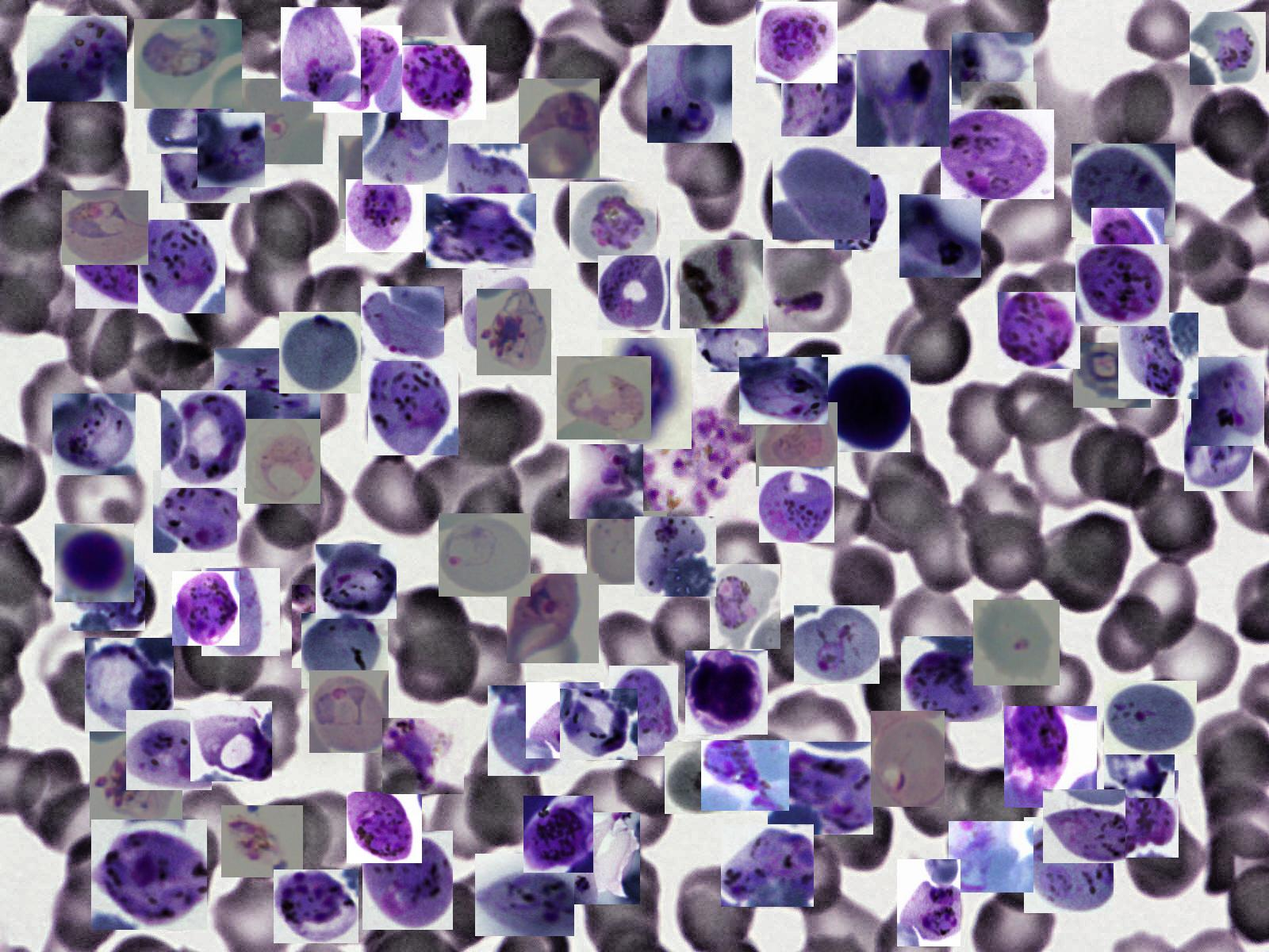Infected: (623, 406, 760, 517), (91, 820, 207, 930), (941, 110, 1054, 200), (773, 136, 870, 240), (603, 338, 692, 449), (768, 742, 873, 835), (134, 19, 242, 109), (1072, 144, 1175, 237), (1004, 706, 1097, 808), (362, 831, 453, 930), (857, 50, 949, 147), (90, 731, 182, 827), (781, 54, 870, 152), (901, 637, 1002, 723), (1024, 817, 1114, 913), (822, 355, 911, 452), (27, 16, 127, 102), (85, 639, 174, 735), (368, 361, 458, 455), (161, 390, 246, 488), (647, 45, 732, 143), (362, 89, 448, 185), (507, 574, 599, 663), (426, 194, 536, 268), (475, 854, 574, 936), (138, 220, 225, 313), (519, 79, 600, 178), (554, 812, 640, 904), (557, 356, 651, 440), (313, 25, 402, 113), (488, 685, 574, 776), (759, 248, 852, 332), (161, 116, 250, 203), (439, 513, 531, 597), (721, 824, 814, 907), (1075, 244, 1169, 326), (446, 144, 528, 237), (281, 7, 361, 102), (234, 79, 323, 164), (214, 348, 320, 419), (973, 600, 1060, 685), (680, 240, 763, 328), (292, 585, 377, 669), (1098, 770, 1179, 858), (569, 182, 657, 263), (871, 711, 945, 807), (153, 470, 237, 553), (685, 651, 768, 735), (1184, 390, 1253, 491), (201, 568, 280, 656), (52, 393, 136, 475), (756, 402, 838, 486), (899, 194, 981, 278), (1118, 313, 1198, 399), (127, 711, 212, 791), (794, 605, 880, 684), (1104, 681, 1197, 754), (756, 402, 834, 488), (756, 2, 838, 83), (279, 312, 361, 393), (634, 516, 716, 597), (309, 670, 389, 753), (339, 136, 419, 219), (301, 613, 388, 689), (190, 701, 272, 781), (1191, 357, 1264, 446), (75, 227, 154, 309), (244, 419, 320, 504), (62, 190, 148, 265), (401, 45, 486, 120), (477, 289, 551, 375), (998, 292, 1080, 369), (702, 740, 790, 811), (382, 718, 464, 794), (361, 286, 444, 361), (274, 869, 358, 943), (609, 666, 678, 756), (147, 83, 234, 154), (55, 524, 134, 602), (69, 550, 145, 631), (316, 544, 397, 619), (1043, 789, 1125, 863), (961, 82, 1037, 161), (696, 290, 769, 372), (949, 821, 1033, 892), (739, 357, 828, 424), (711, 564, 781, 649), (526, 682, 604, 758), (587, 511, 667, 585), (221, 805, 303, 877), (952, 33, 1033, 105), (759, 466, 834, 543), (1091, 209, 1164, 288), (346, 179, 423, 252), (569, 444, 643, 519), (665, 742, 742, 814), (560, 689, 638, 760), (897, 859, 960, 946), (1190, 13, 1266, 85), (376, 36, 447, 113), (462, 270, 529, 351), (598, 255, 670, 330), (523, 796, 593, 873), (347, 792, 422, 863), (1104, 724, 1175, 798), (172, 571, 240, 646), (1073, 343, 1151, 408), (197, 113, 265, 187), (834, 175, 899, 250)
Uninfected: (1028, 508, 1132, 615), (1022, 399, 1120, 506), (1098, 559, 1196, 665), (977, 177, 1083, 271), (1123, 462, 1217, 566), (1126, 60, 1222, 156), (1069, 420, 1164, 513), (1085, 63, 1179, 156), (800, 787, 900, 874), (888, 585, 979, 680), (586, 604, 676, 700), (749, 693, 861, 770), (1143, 618, 1237, 709), (351, 449, 446, 539), (57, 443, 146, 539), (259, 457, 347, 554), (502, 444, 593, 537), (412, 441, 519, 519), (565, 766, 669, 845), (923, 3, 1015, 89), (173, 271, 266, 356), (35, 136, 130, 219), (385, 589, 473, 678), (44, 651, 136, 736), (35, 776, 134, 854), (430, 774, 519, 860), (1175, 216, 1256, 310), (946, 378, 1025, 474), (8, 741, 86, 838), (849, 475, 943, 555), (622, 47, 704, 138), (1124, 804, 1203, 898), (292, 265, 387, 343), (278, 789, 365, 874), (539, 11, 629, 93), (959, 471, 1048, 553), (613, 736, 704, 816), (385, 252, 478, 330), (232, 189, 313, 278), (251, 178, 341, 258), (676, 862, 758, 949), (725, 227, 801, 319), (92, 305, 174, 390), (179, 613, 261, 698), (21, 366, 100, 454), (555, 174, 633, 263), (872, 451, 953, 536), (523, 475, 613, 551), (468, 763, 543, 854), (237, 508, 319, 591), (174, 784, 254, 869), (1006, 651, 1095, 727), (994, 369, 1080, 447), (542, 47, 619, 134), (286, 566, 374, 642), (966, 511, 1048, 592), (578, 214, 654, 301), (853, 401, 921, 498), (448, 623, 521, 713), (665, 117, 746, 198), (45, 74, 127, 154), (438, 386, 522, 464), (860, 656, 945, 733), (272, 361, 348, 447), (723, 377, 796, 466), (148, 361, 244, 428), (903, 505, 983, 585), (1028, 263, 1111, 340), (704, 524, 783, 604), (915, 152, 994, 232), (62, 832, 143, 910), (461, 386, 542, 464), (763, 36, 838, 120), (468, 735, 542, 820), (441, 866, 527, 939), (3, 268, 90, 340), (397, 626, 477, 704), (650, 588, 726, 670), (684, 136, 750, 230), (67, 286, 136, 375), (906, 228, 976, 315), (968, 766, 1045, 845), (454, 479, 527, 562), (1107, 357, 1179, 441), (240, 244, 317, 321), (364, 735, 441, 812), (1187, 90, 1266, 165), (261, 796, 333, 878), (773, 333, 844, 416), (230, 687, 297, 774), (89, 564, 156, 650), (761, 158, 825, 248), (907, 767, 988, 838), (765, 835, 841, 910), (125, 339, 219, 399), (826, 543, 899, 620), (987, 835, 1060, 912), (791, 486, 877, 551), (580, 854, 661, 923), (140, 631, 221, 700), (898, 313, 972, 387), (765, 611, 843, 681), (928, 230, 1004, 301), (1153, 199, 1222, 274), (987, 838, 1062, 904), (470, 7, 539, 73), (454, 38, 524, 103), (117, 236, 183, 298)
